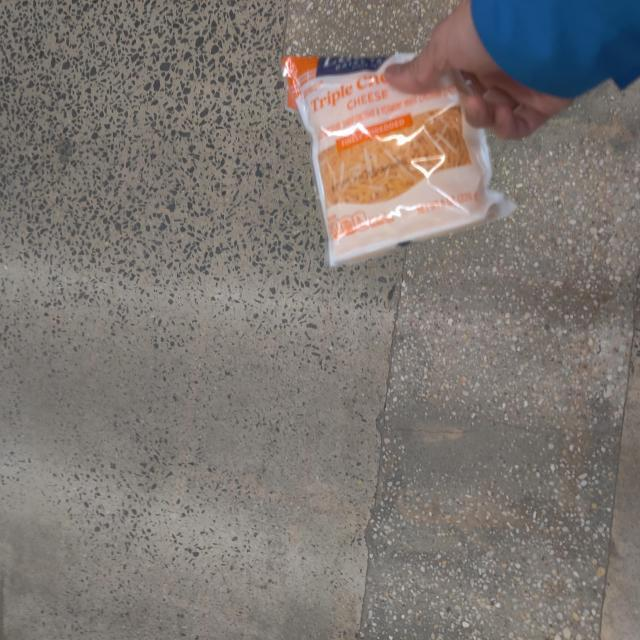Cheese: (274, 36, 520, 268)
